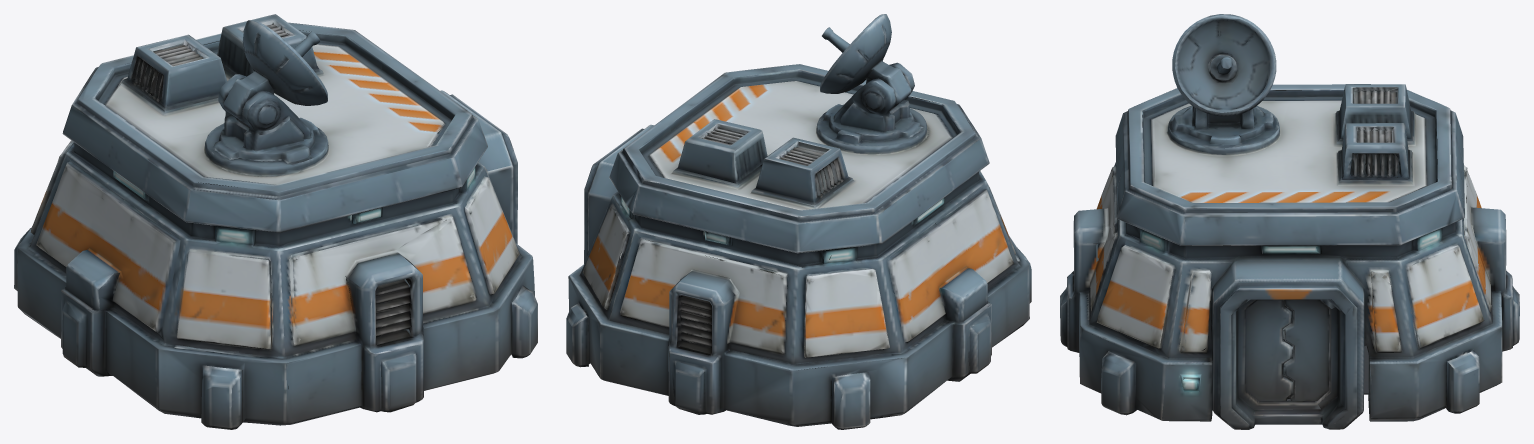
3 renders of one model, left to right at view 1: azimuth 30°, elevation 25°; view 2: azimuth 150°, elevation 25°; view 3: azimuth 270°, elevation 25°, orthographic. The views are drawn at different scales.
Parts seen in each view (by area): view 1: repaired; view 2: repaired; view 3: repaired.
Part boxes in pixels (box(x1,y1,x2,y2)): repaired: box(14, 14, 537, 429); repaired: box(566, 14, 1031, 429); repaired: box(1060, 14, 1519, 429).
Size of the model in its own units: 0.9399 by 0.734 by 0.9994.
Materials: 1 (1 with a texture image).
